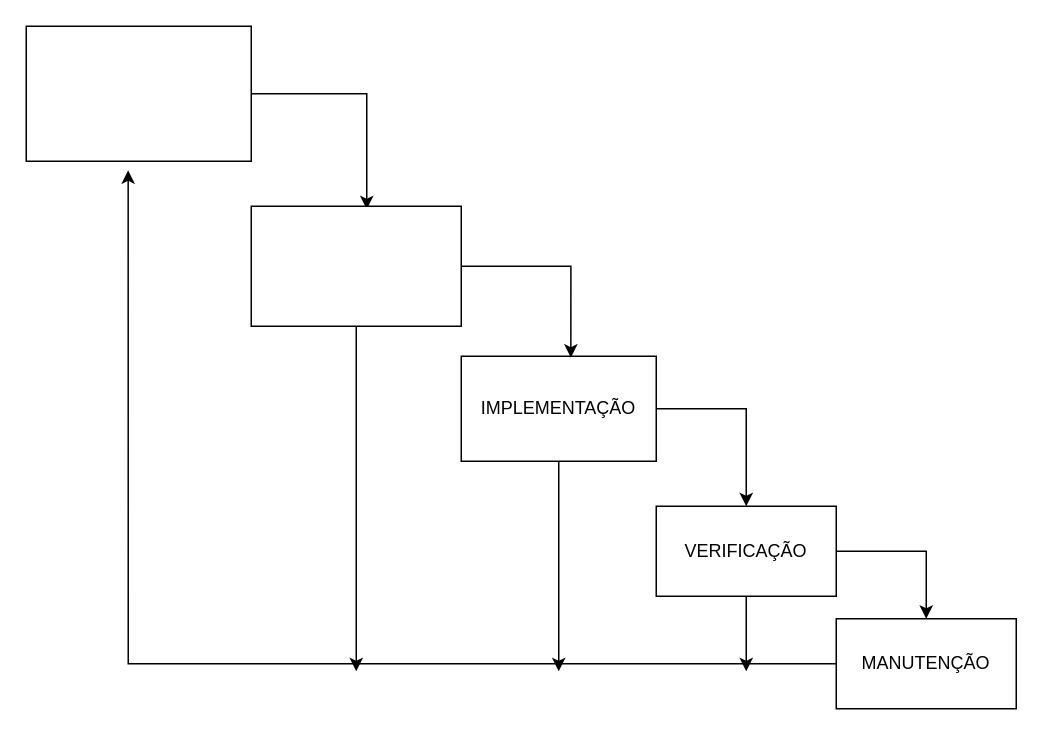
This 1043x735 diagram has some shape labels left out. Each missing label, with the centre of its shape:
PROJETO: point 355,265
REQUERIMENTO: point 138,93
